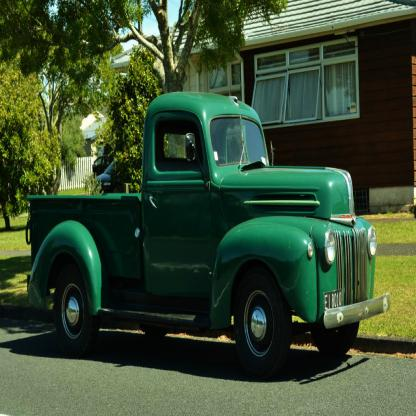Car: (90, 160, 121, 194)
Truck: (27, 79, 353, 379)
